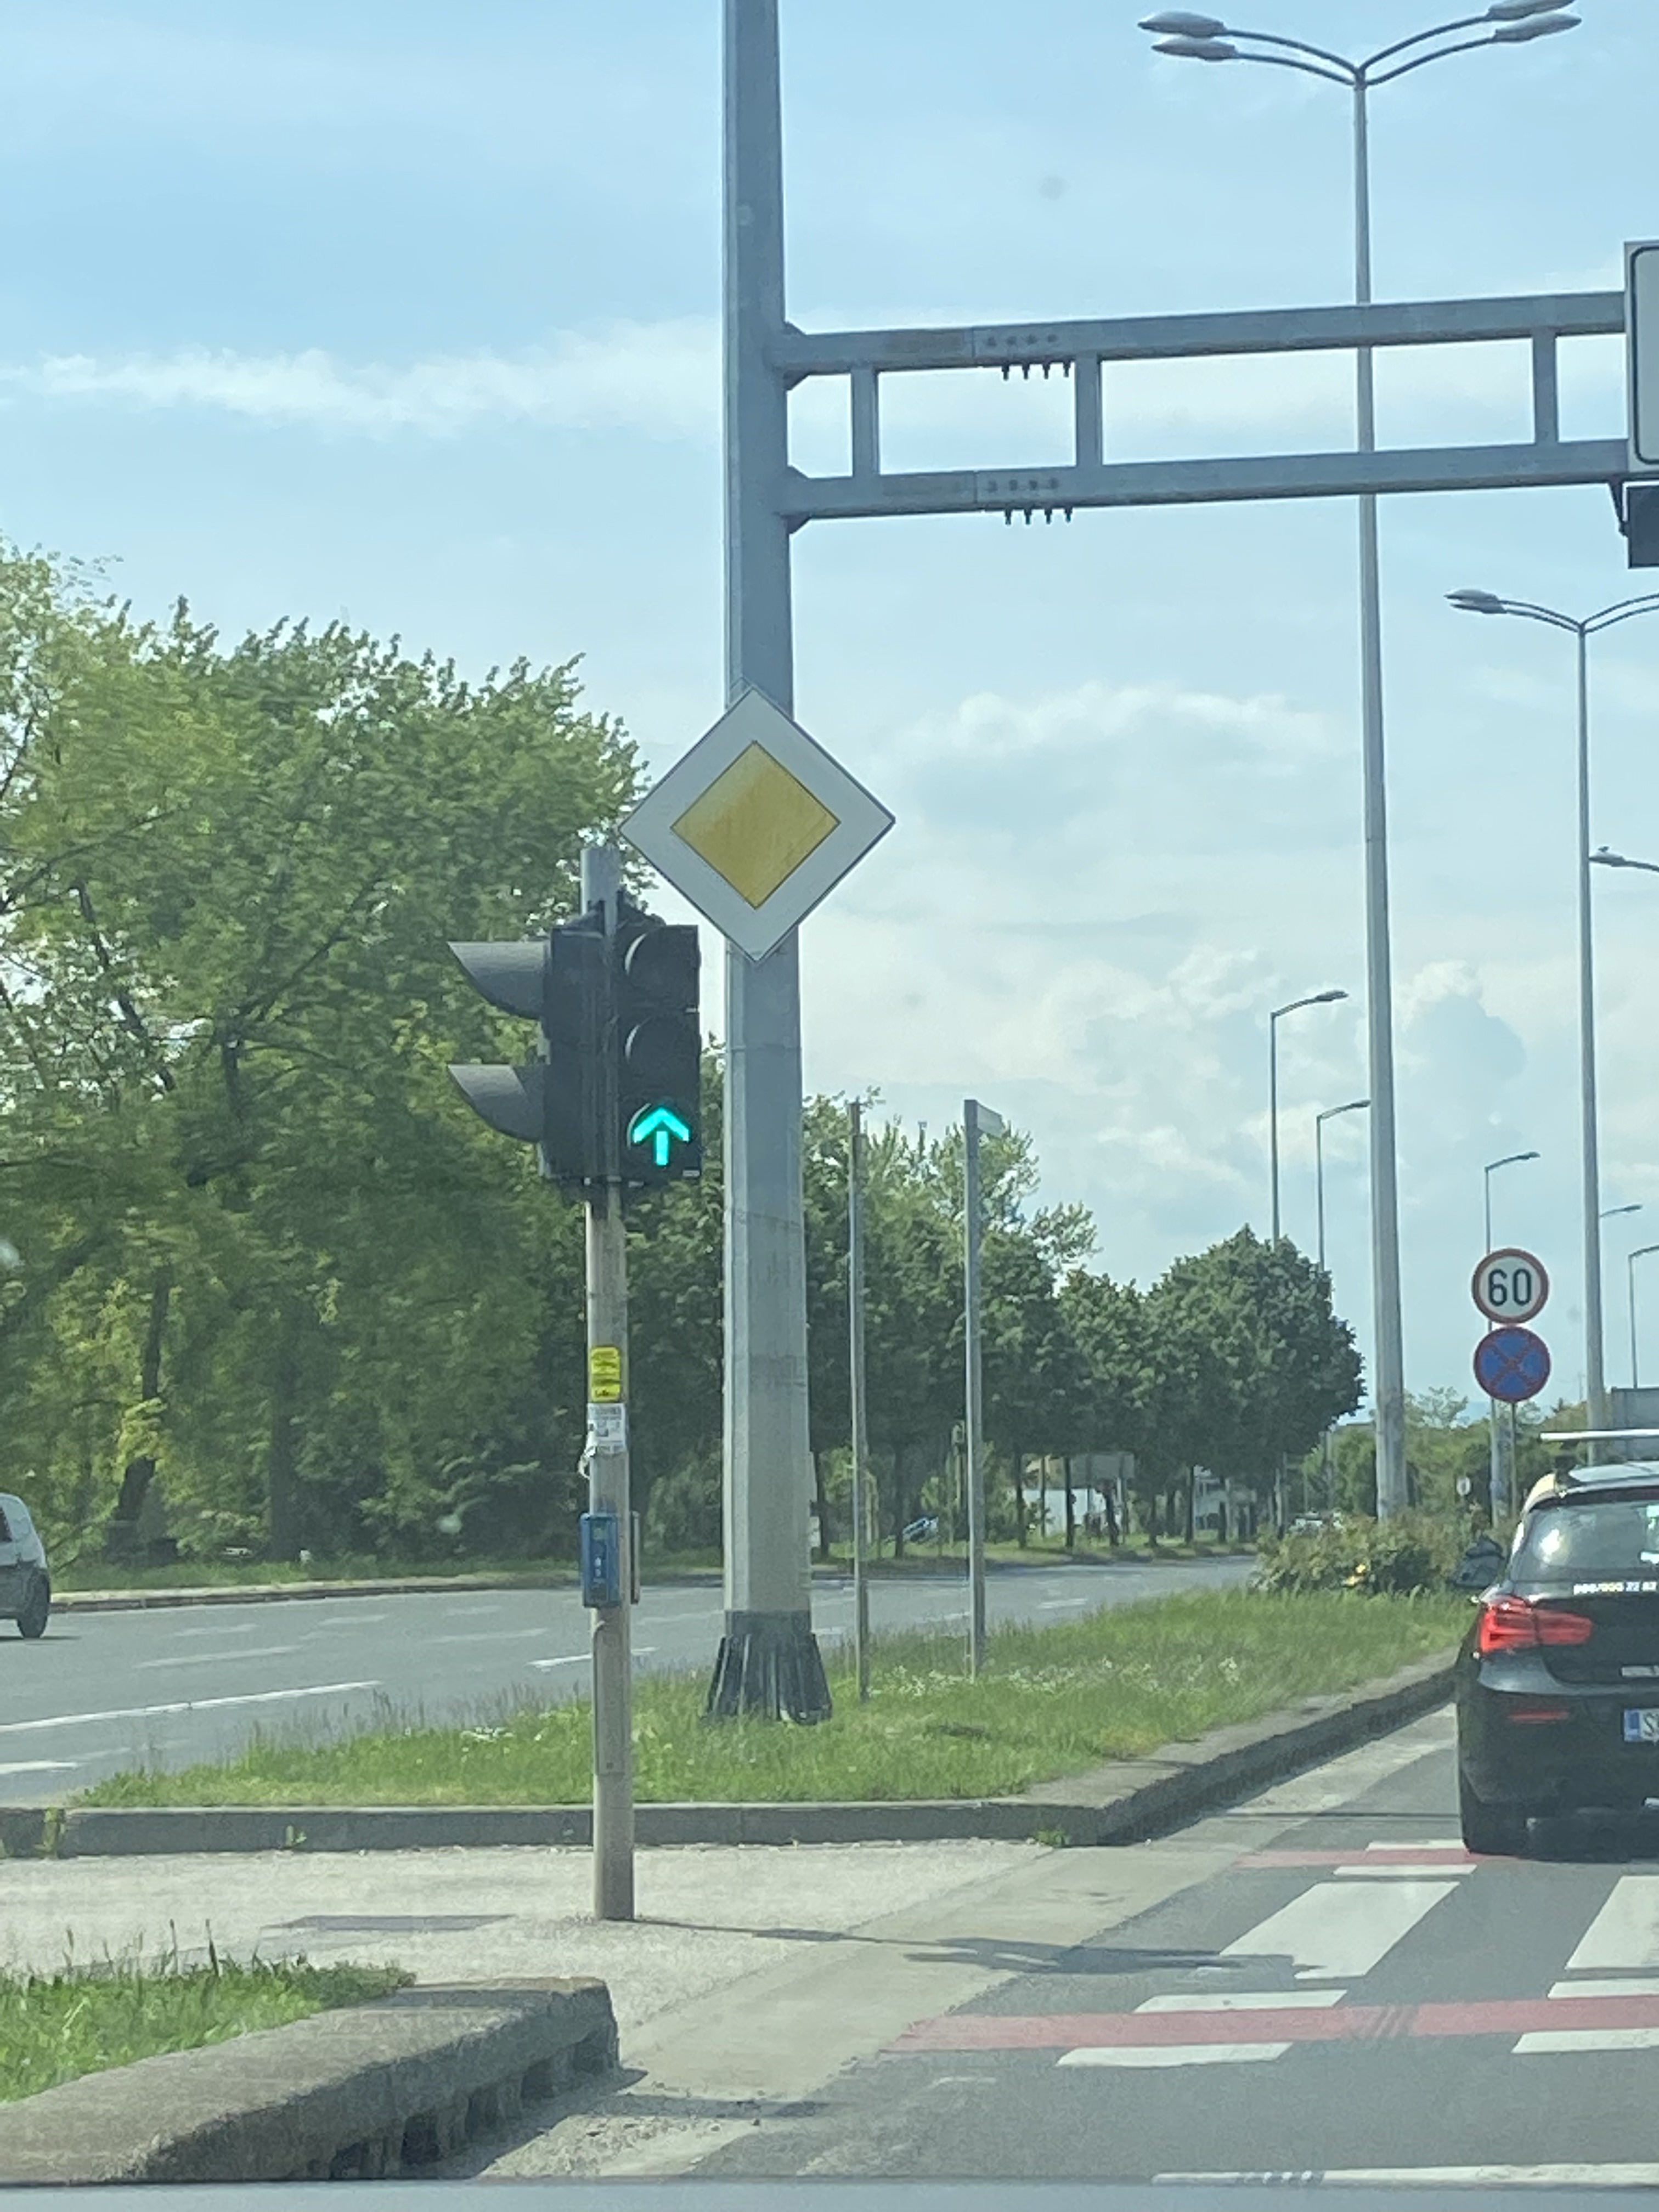Cesta s prednošću prolaska: (617, 685, 897, 967)
Ograničenje brzine 60: (1471, 1247, 1549, 1325)
